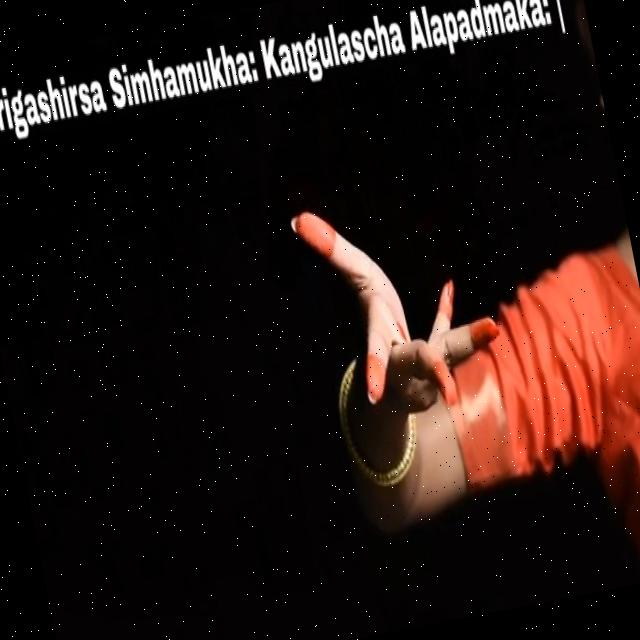Alapadma: (278, 160, 528, 454)
bangle: (320, 362, 437, 503), (353, 368, 354, 371)
text: (0, 0, 577, 163)
